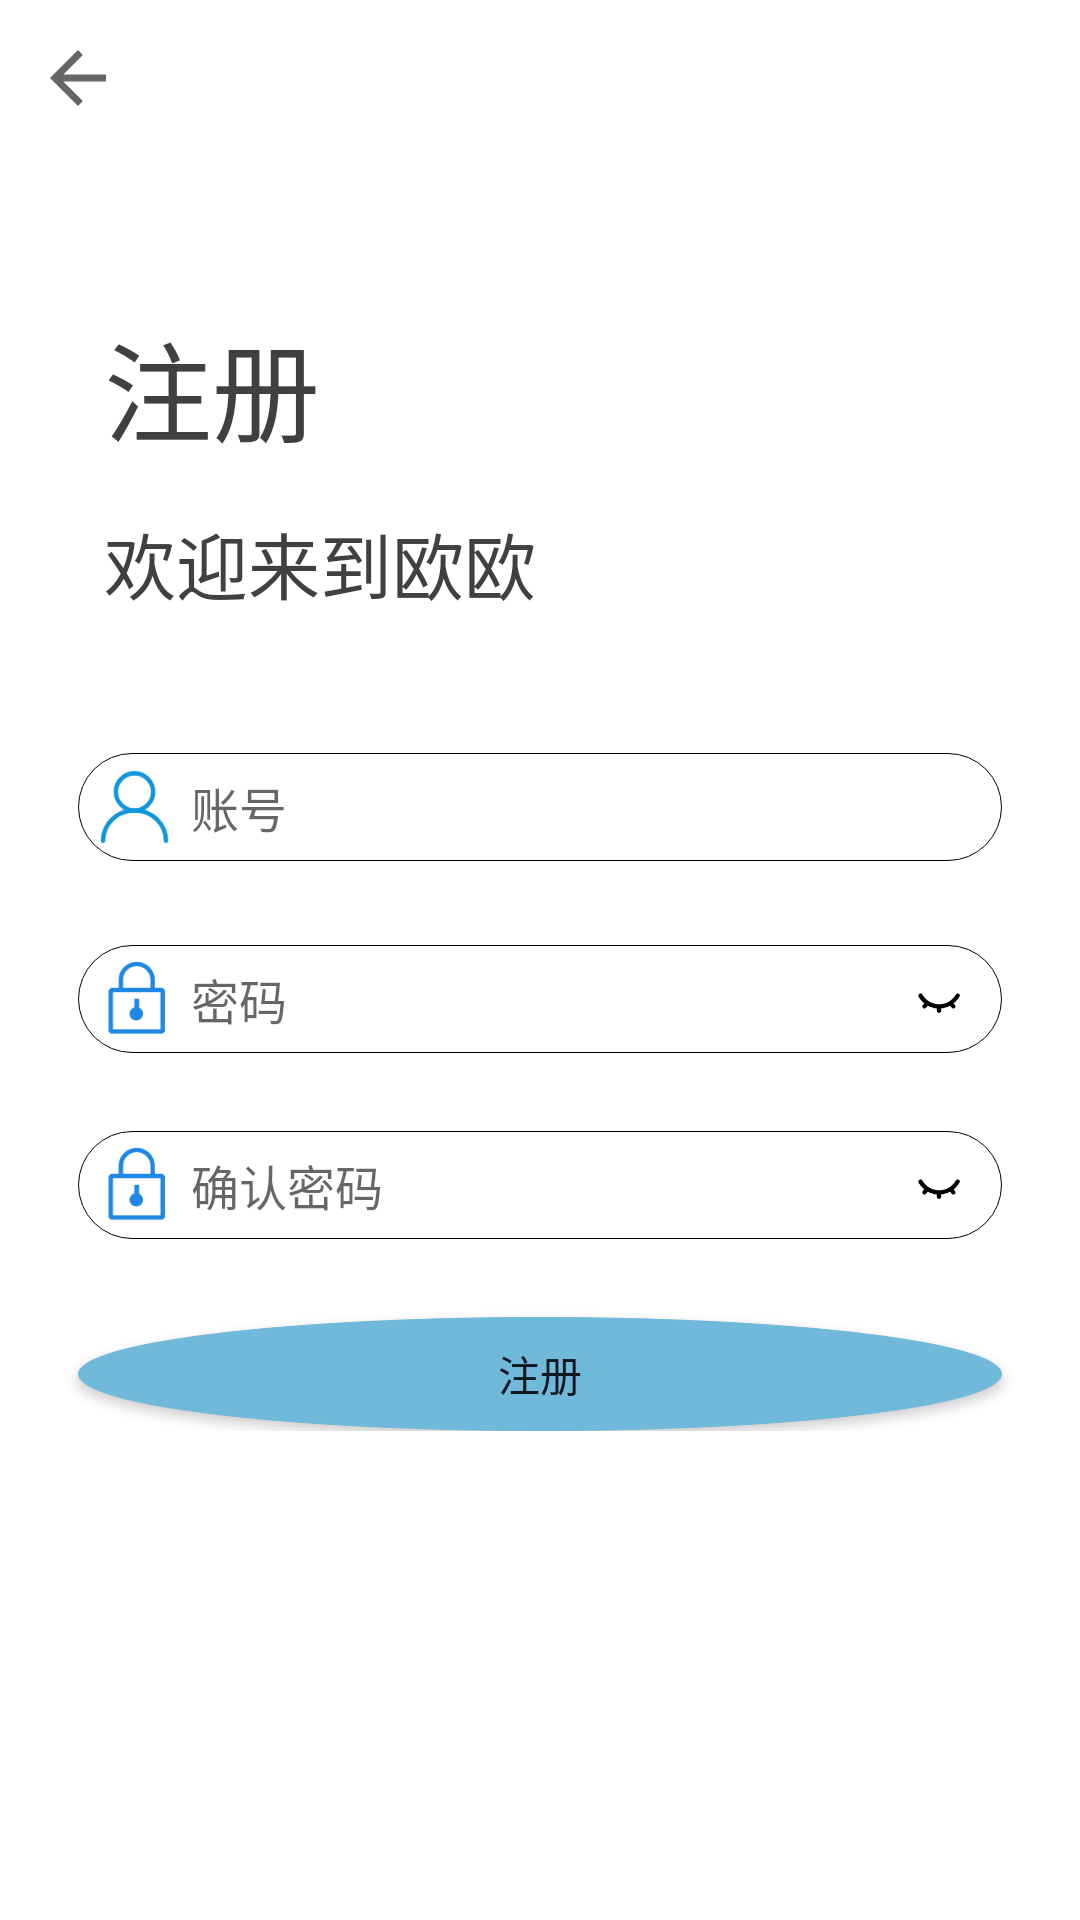

Icons on this 1080 x 1920 Android screen, each with the point to tap as [x,y]:
eye close: [939,1003], [939,1189]
lock: [136,998], [136,1184]
user: [134,807]
